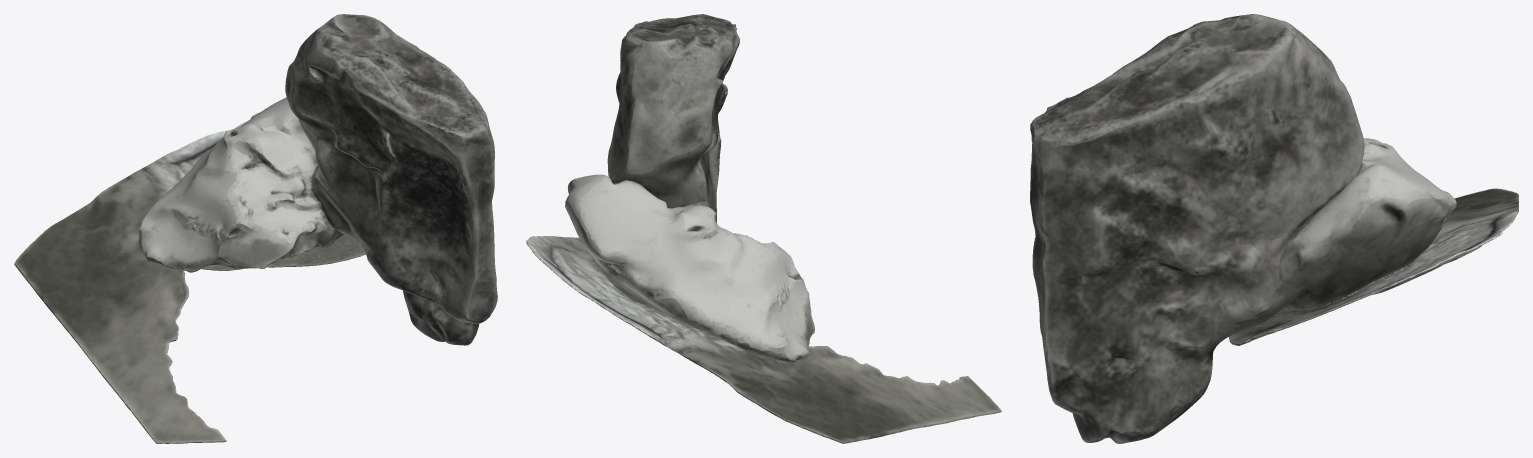
3 views of the same model, side by side, from view 1: azimuth 30°, elevation 25°; view 2: azimuth 150°, elevation 25°; view 3: azimuth 270°, elevation 25° (orthographic). The views are drawn at different scales.
Parts seen in each view (by area): view 1: world; view 2: world; view 3: world.
Part boxes in pixels (box(x1,y1,x2,y2)): world: box(14, 14, 497, 443); world: box(526, 14, 1001, 443); world: box(1030, 14, 1518, 443).
Size of the model in its own units: 1.56 by 1.5 by 1.56.
1 material, 1 textured.
